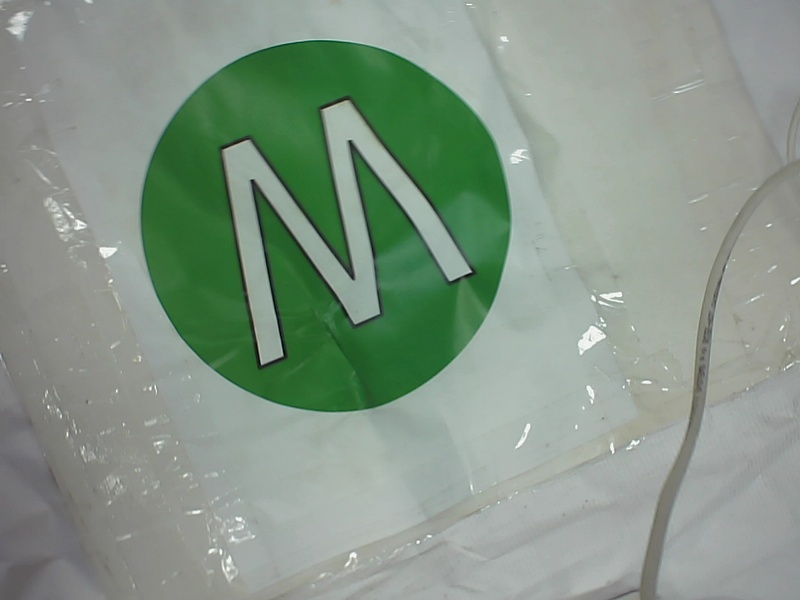areaB: (116, 39, 518, 421)
